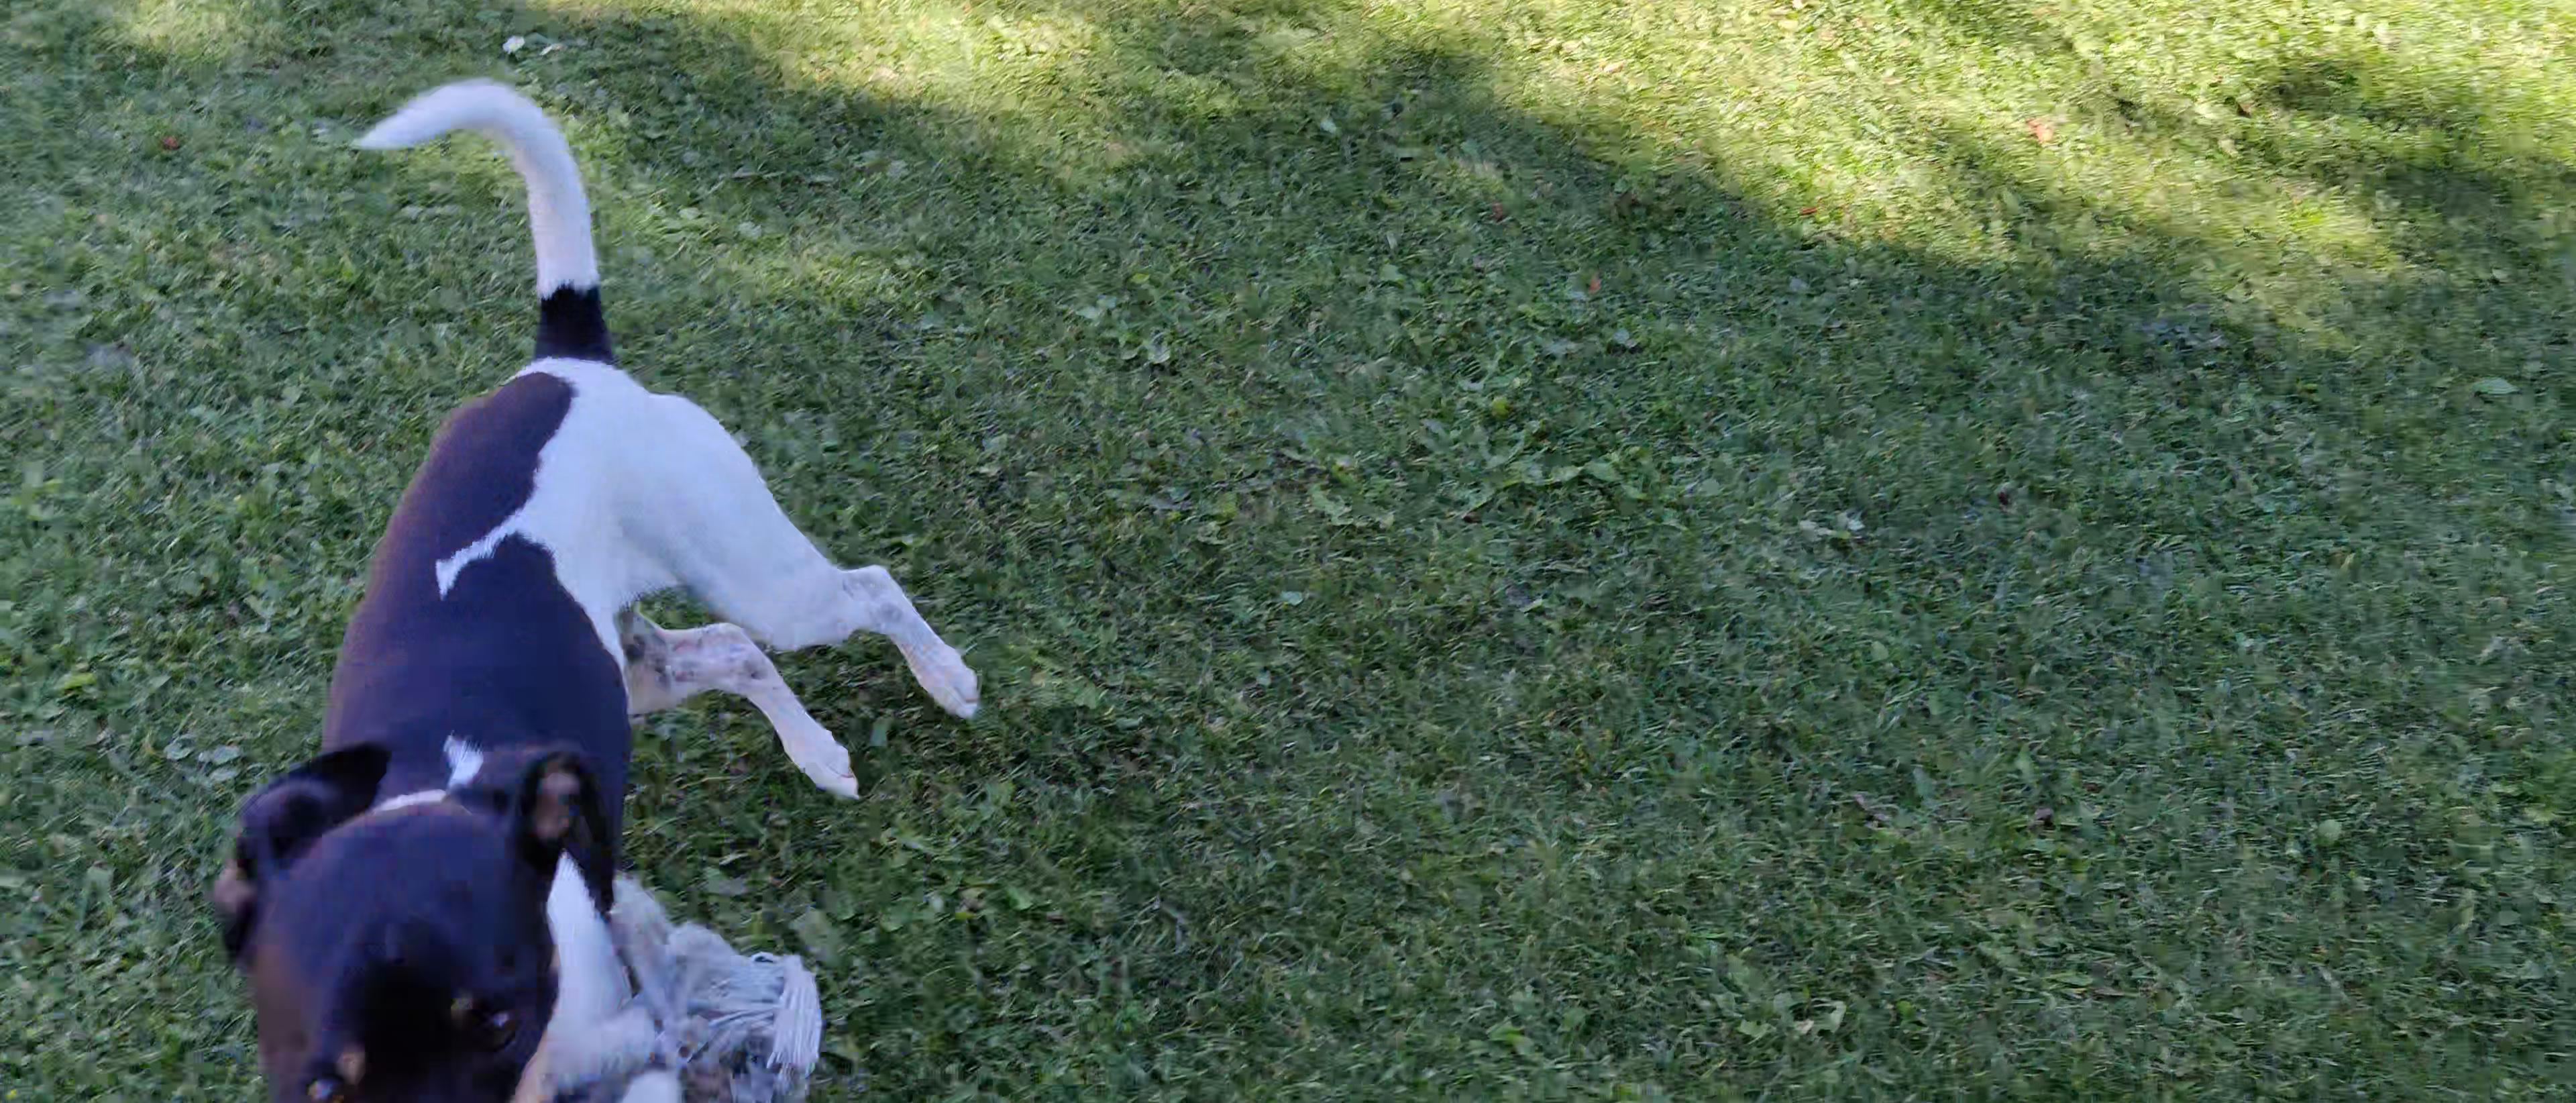Dog: (205, 71, 987, 1103)
